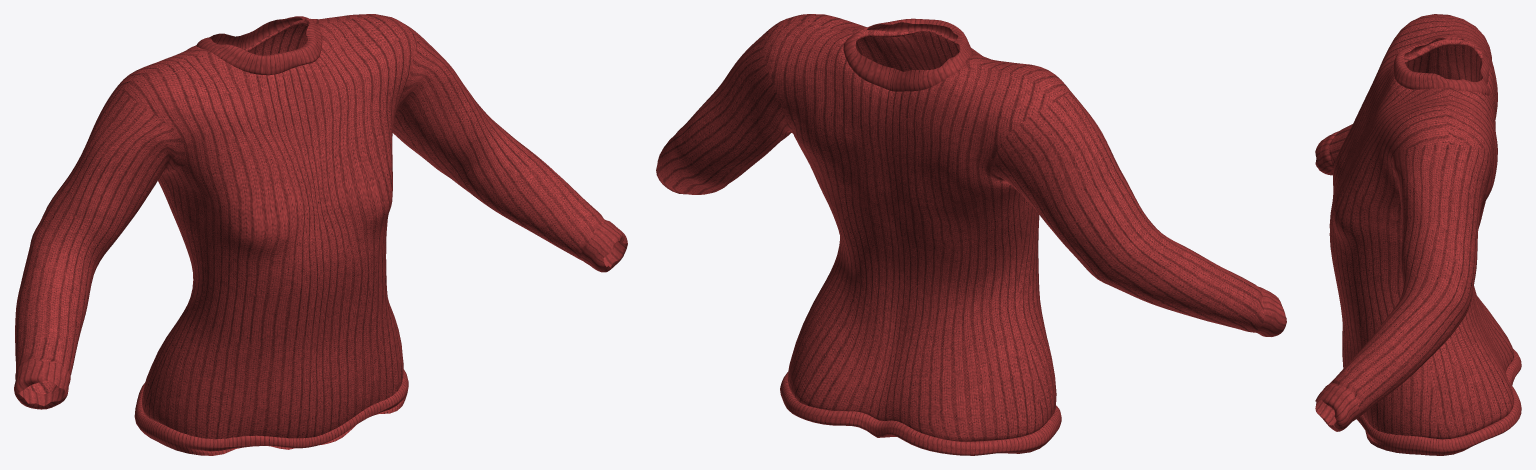
File: sweater.glb
3 views of the same model, side by side, from view 1: azimuth 30°, elevation 25°; view 2: azimuth 150°, elevation 25°; view 3: azimuth 270°, elevation 25° (orthographic). The views are drawn at different scales.
Visible parts, largest first — view 1: sweater; view 2: sweater; view 3: sweater.
Boxes of the visible parts, <box> form: sweater: <box>14,14,627,455</box>; sweater: <box>656,14,1286,455</box>; sweater: <box>1315,14,1521,455</box>.
Size of the model in its own units: 0.9074 by 0.5352 by 0.2857.
1 material, 1 textured.
